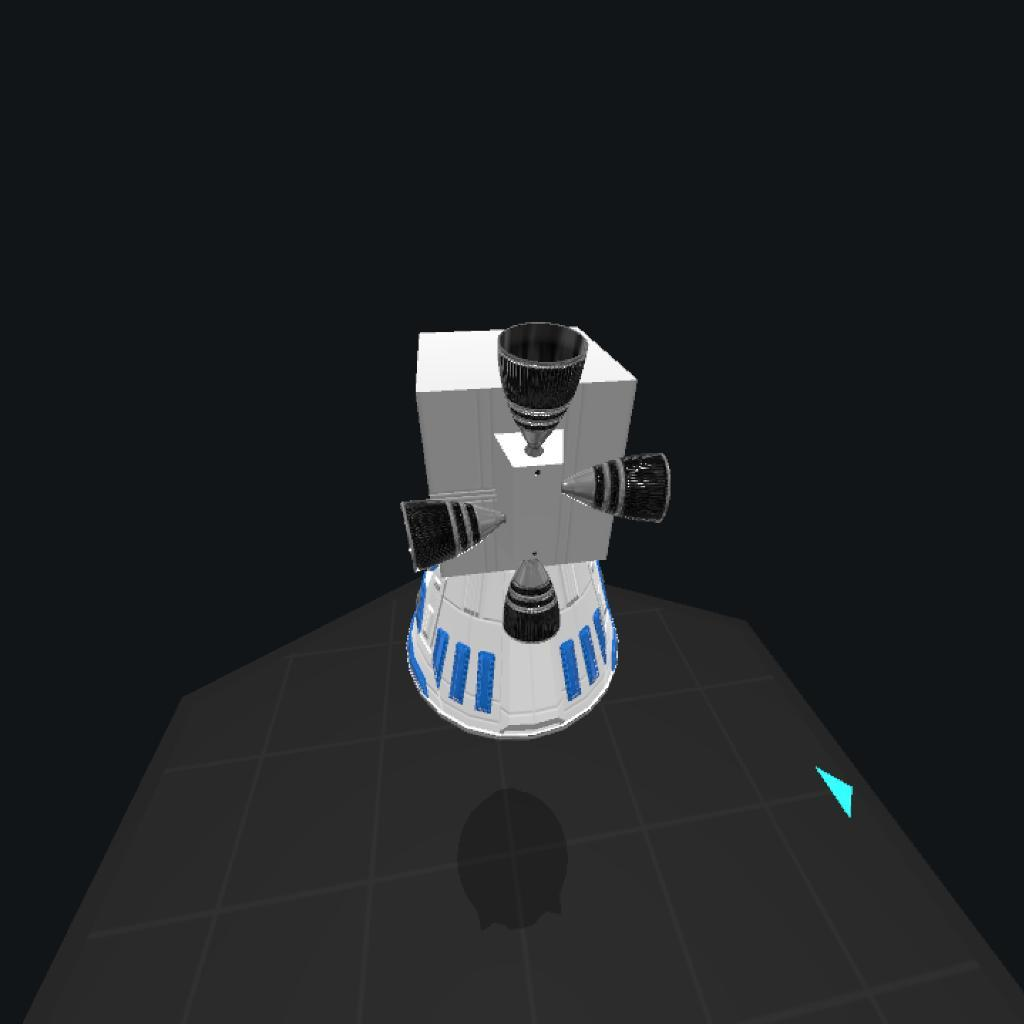thruster: (494, 319, 589, 446), (567, 449, 673, 530), (399, 497, 502, 568), (503, 558, 561, 645)
